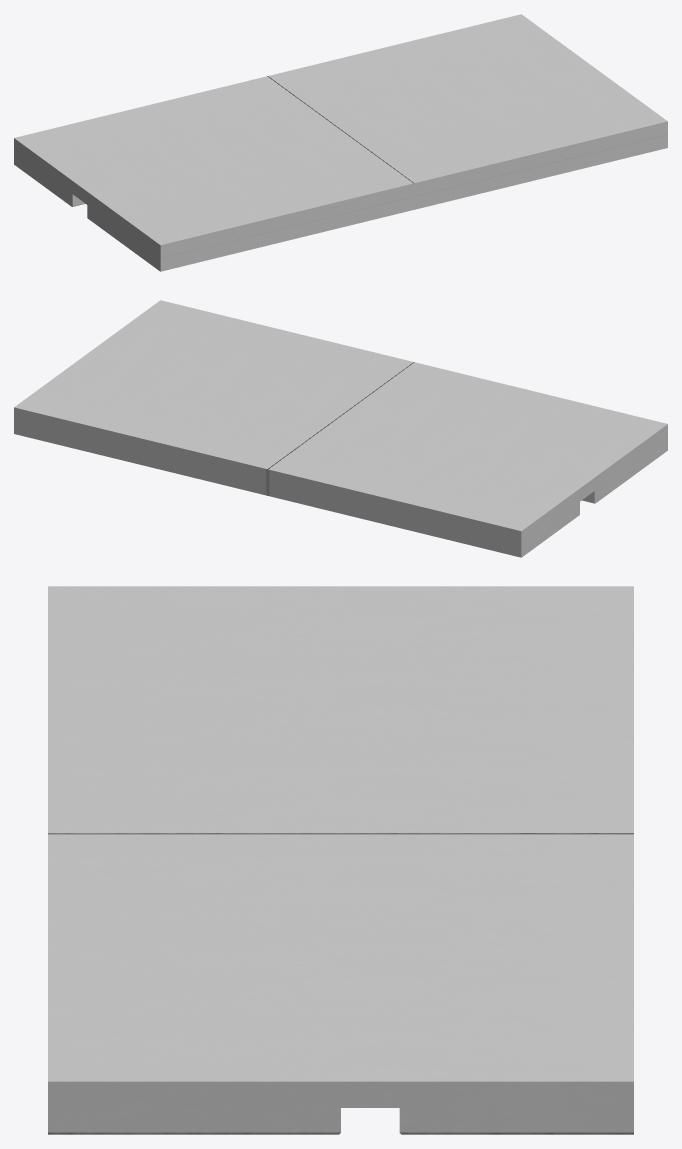
File: CeilingHalf.fbx
3 views of the same model, one above another, from view 1: azimuth 30°, elevation 25°; view 2: azimuth 150°, elevation 25°; view 3: azimuth 270°, elevation 25° (orthographic). The views are drawn at different scales.
Visible parts, largest first — view 1: CeilingHalf; view 2: CeilingHalf; view 3: CeilingHalf.
Part boxes in pixels (x1,y1,x2,y2): CeilingHalf: (14, 14, 667, 271); CeilingHalf: (14, 300, 667, 557); CeilingHalf: (48, 586, 633, 1134).
Bounding box in the file's own units: 4 × 0.2 × 2.
